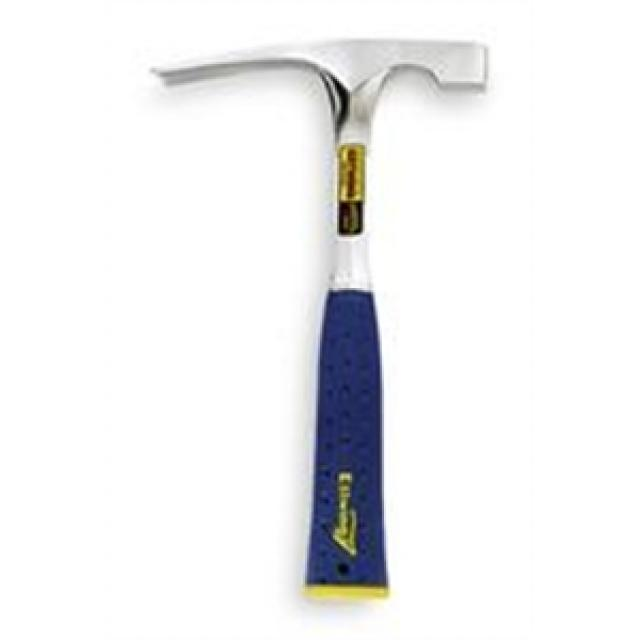hammer: (142, 14, 505, 610)
